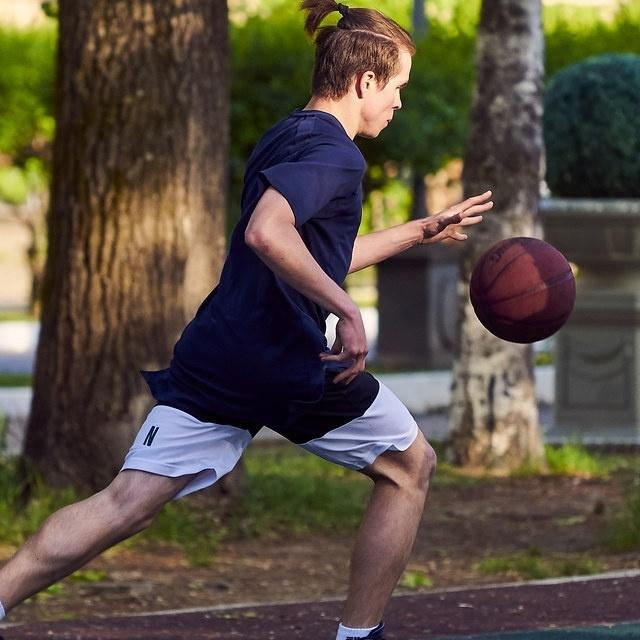basketball: (470, 238, 578, 345)
